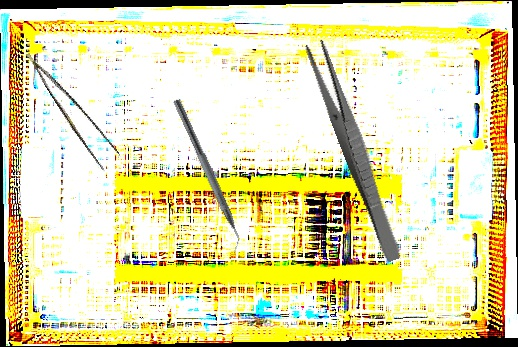Chopper: (162, 97, 251, 258)
Dressing Forceps: (302, 38, 408, 264)
Tissue Forceps: (25, 40, 124, 175)
